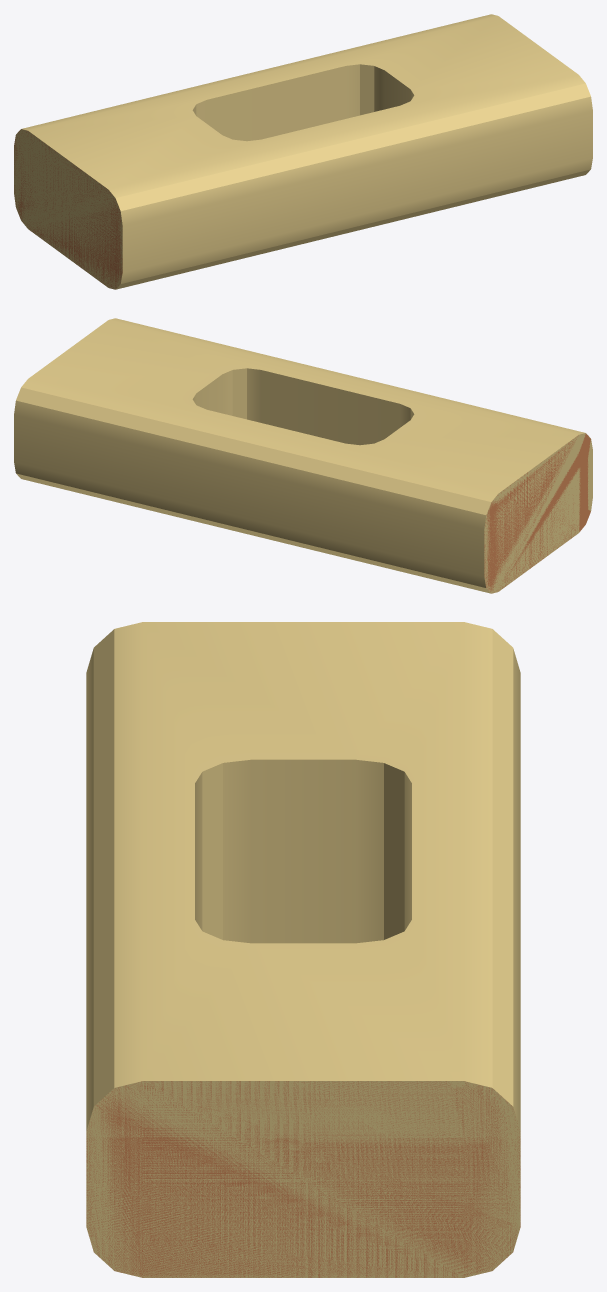
The model's file is LuBanShuo03.fbx.
3 renders of one model, top to bottom at view 1: azimuth 30°, elevation 25°; view 2: azimuth 150°, elevation 25°; view 3: azimuth 270°, elevation 25°, orthographic. The views are drawn at different scales.
Visible parts, largest first — view 1: LuBanShuo003, polySurface80, polySurface63; view 2: LuBanShuo003, polySurface80, polySurface65, polySurface63; view 3: LuBanShuo003, polySurface91, polySurface63, polySurface65.
Part boxes in pixels (<box>): LuBanShuo003: <box>14,14,592,289</box>; polySurface80: <box>28,136,108,285</box>; polySurface63: <box>108,192,122,288</box>; LuBanShuo003: <box>14,318,592,593</box>; polySurface80: <box>498,439,578,588</box>; polySurface65: <box>484,495,498,591</box>; polySurface63: <box>579,434,590,531</box>; LuBanShuo003: <box>86,622,520,1277</box>; polySurface91: <box>142,1081,464,1277</box>; polySurface63: <box>86,1081,142,1277</box>; polySurface65: <box>464,1082,520,1276</box>.
Bounding box in the file's own units: 20 × 4 × 8.
